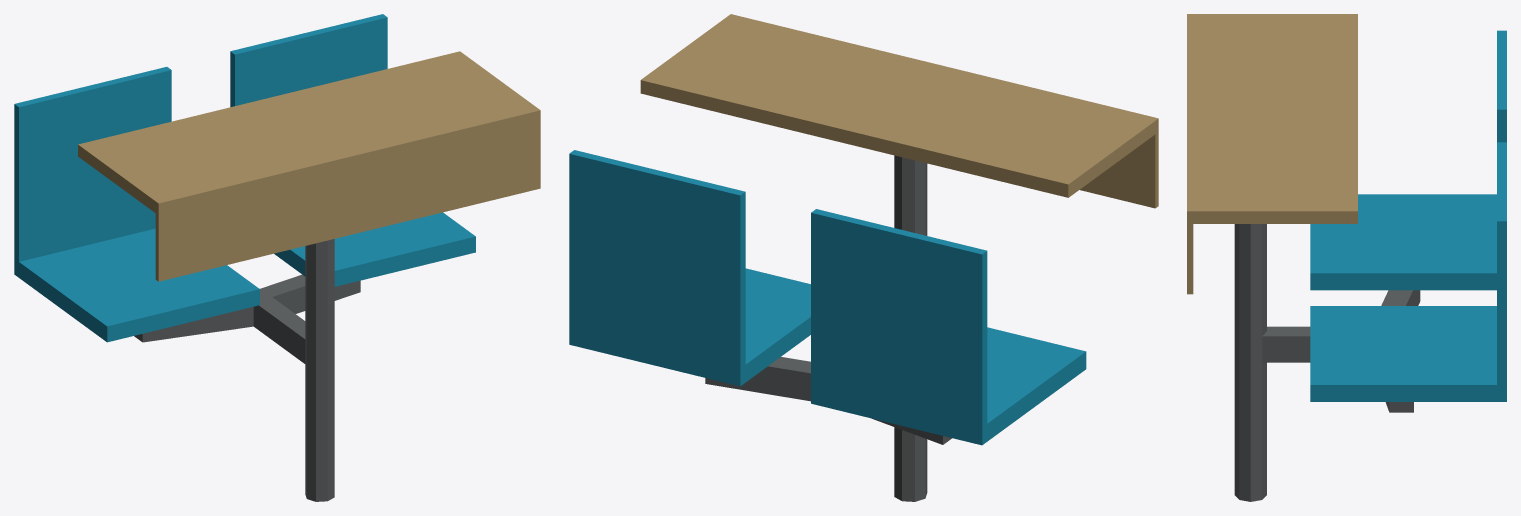
File: Desk&Chair.glb
The picture shows the model from 3 angles, left to right: view 1: azimuth 30°, elevation 25°; view 2: azimuth 150°, elevation 25°; view 3: azimuth 270°, elevation 25°; orthographic projection. The views are drawn at different scales.
Visible parts, largest first — view 1: Ichair; view 2: Ichair; view 3: Ichair.
Boxes of the visible parts, <box> form: Ichair: <box>14,14,540,501</box>; Ichair: <box>569,14,1158,501</box>; Ichair: <box>1187,14,1506,501</box>.
Size of the model in its own units: 1 by 0.9028 by 0.6845.
